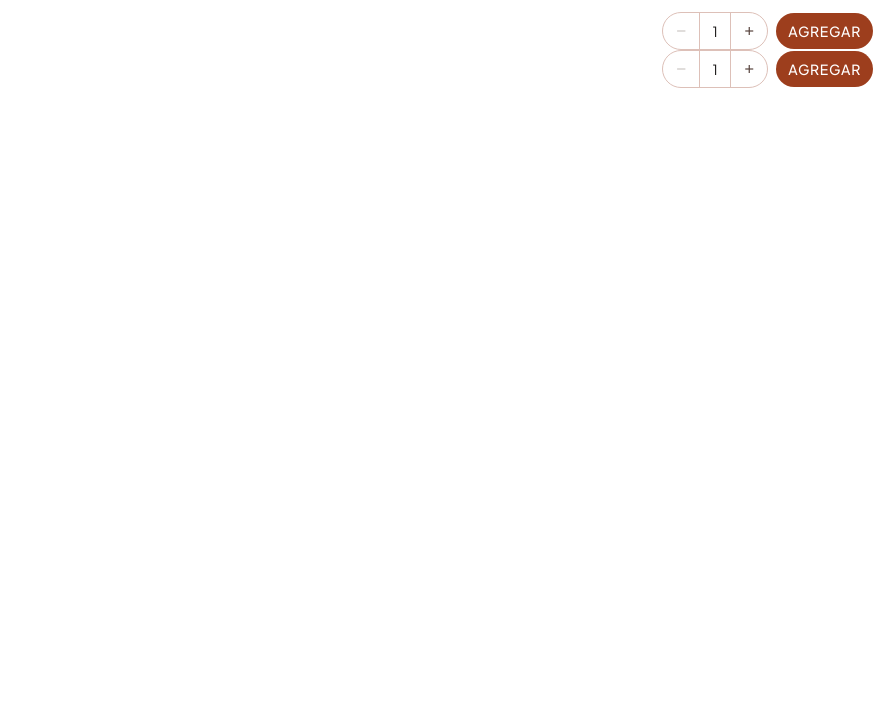
Scenario: BotonAgregarCarrito › toast al agregar › dos instancias del CTA para el mismo producto (bloque de precio + barra fija) muestran UN solo toast
Click the button with aria-label "agregar al carrito": [825, 31] box x1=776 y1=13 x2=873 y2=49
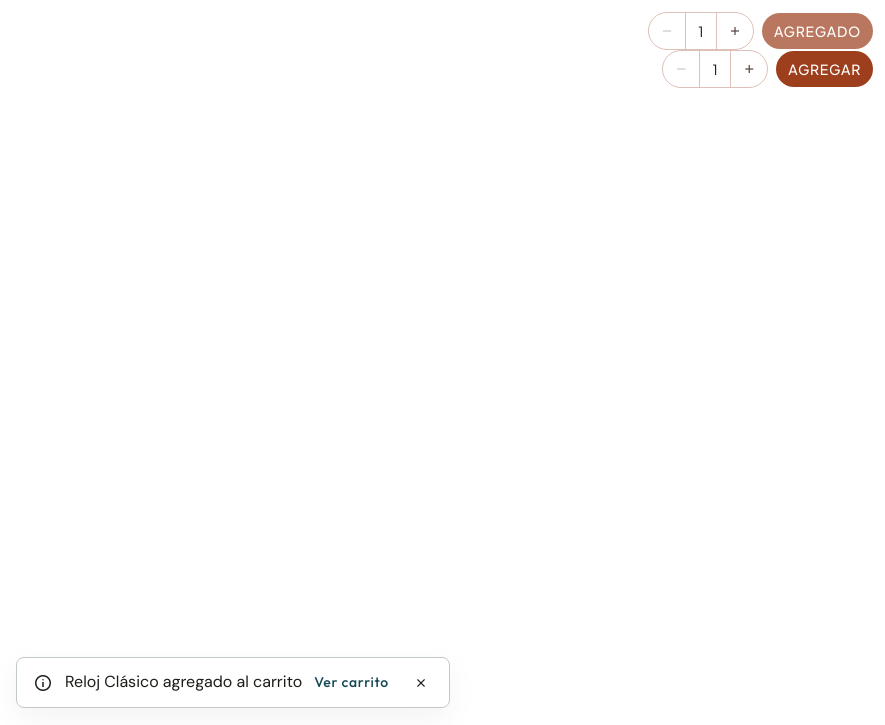
Now the number of messages is 1, box x1=16 y1=657 x2=450 y2=708
